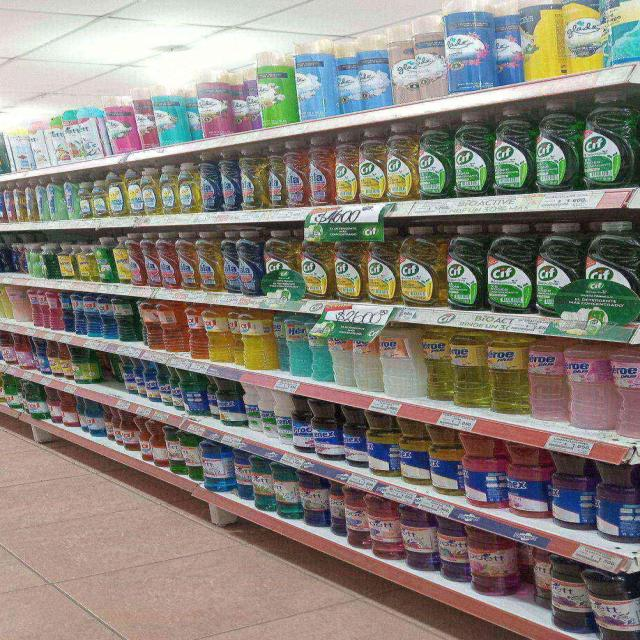ala_conc_amarillo: (196, 232, 222, 292)
ala_conc_azul: (224, 230, 261, 296), (219, 150, 240, 212), (198, 154, 218, 213)
ala_conc_rojo: (308, 136, 334, 206), (286, 140, 308, 208), (266, 143, 284, 209), (158, 234, 178, 288), (144, 234, 160, 287)
cif_conc_bot_amarilla: (398, 225, 442, 306), (364, 230, 397, 303), (386, 122, 416, 201), (332, 234, 363, 302), (360, 129, 386, 203), (336, 132, 358, 204)
cif_conc_botella_verde: (580, 220, 638, 328), (580, 94, 632, 188), (486, 223, 533, 313), (534, 222, 578, 317), (533, 102, 578, 192), (491, 107, 532, 194), (445, 225, 484, 310), (452, 112, 490, 197), (418, 118, 451, 199)
magistral_con_amarillo: (108, 170, 126, 217), (126, 168, 142, 216)
